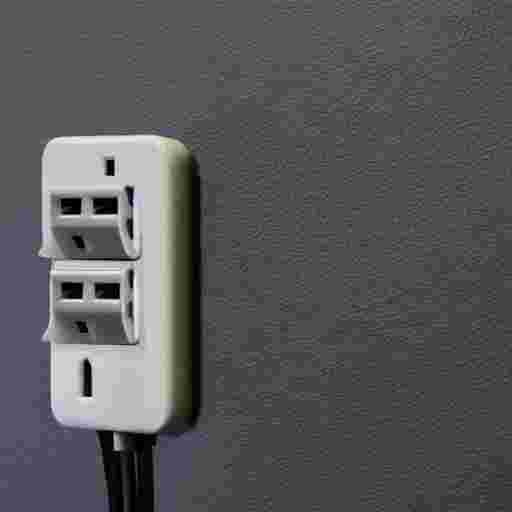power outlet: (39, 135, 192, 433)
